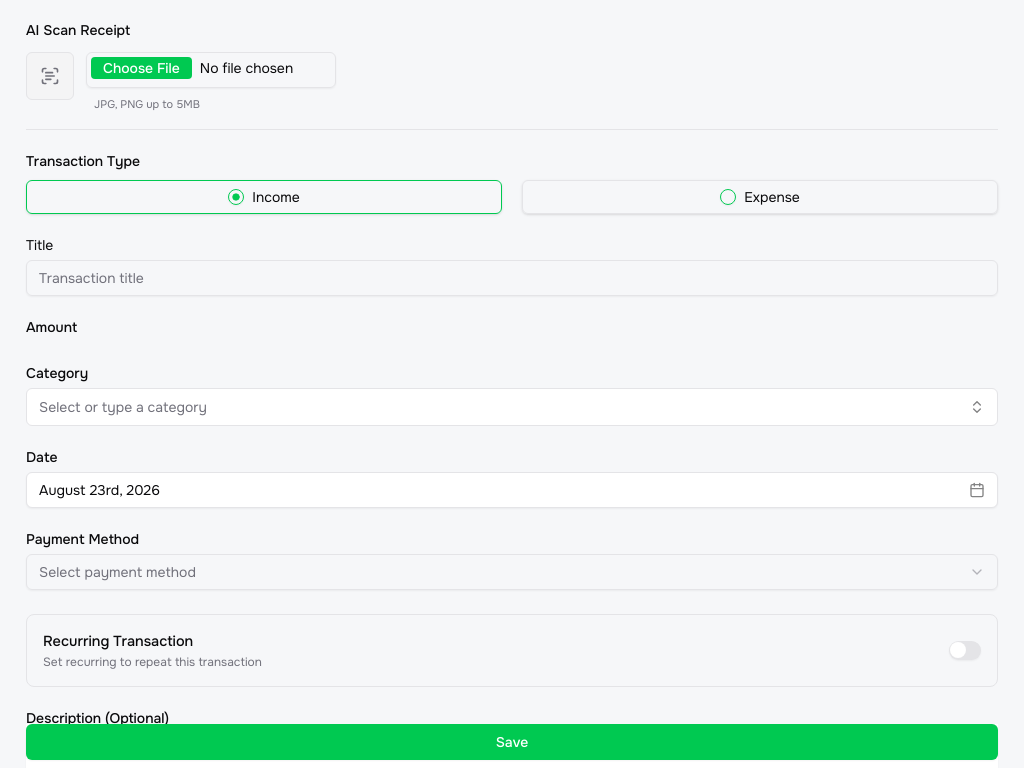
Test case: TransactionForm › shows validation errors when submitting an empty form
Click the button "Save": (512, 742) [26,724,998,760]
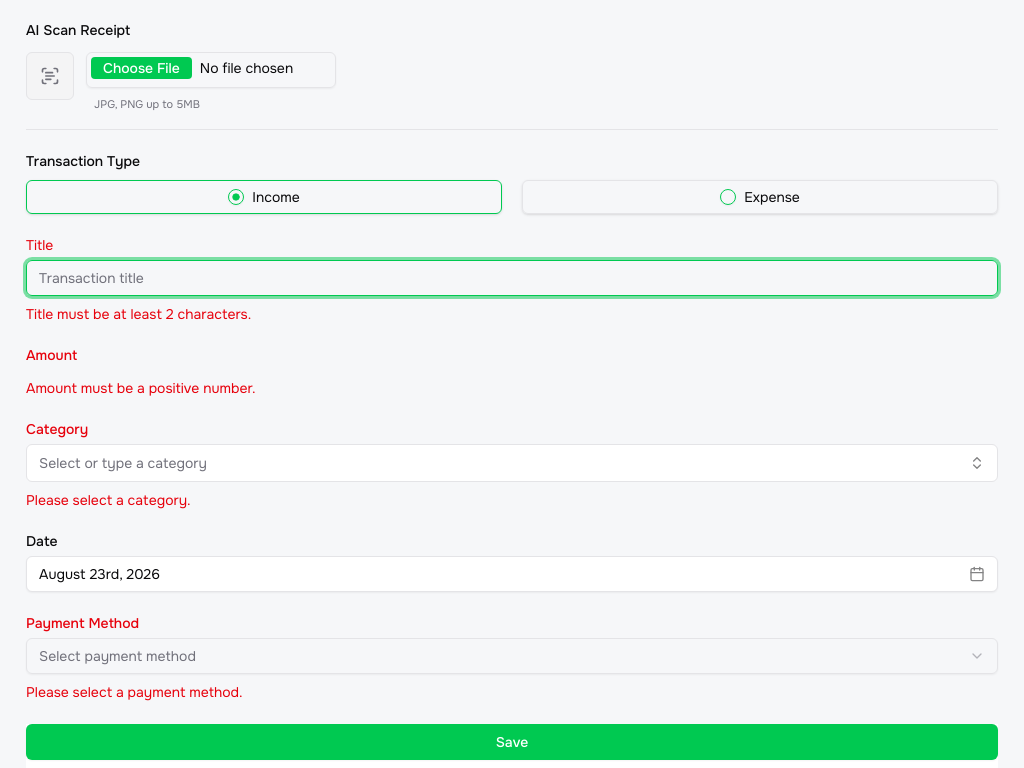
Expected: the text "Title must be at least 2 characters." is shown, [26,304,251,322]
Expected: the text "Please select a category." is shown, [26,490,191,508]
Expected: the text "Please select a payment method." is shown, [26,682,243,700]
